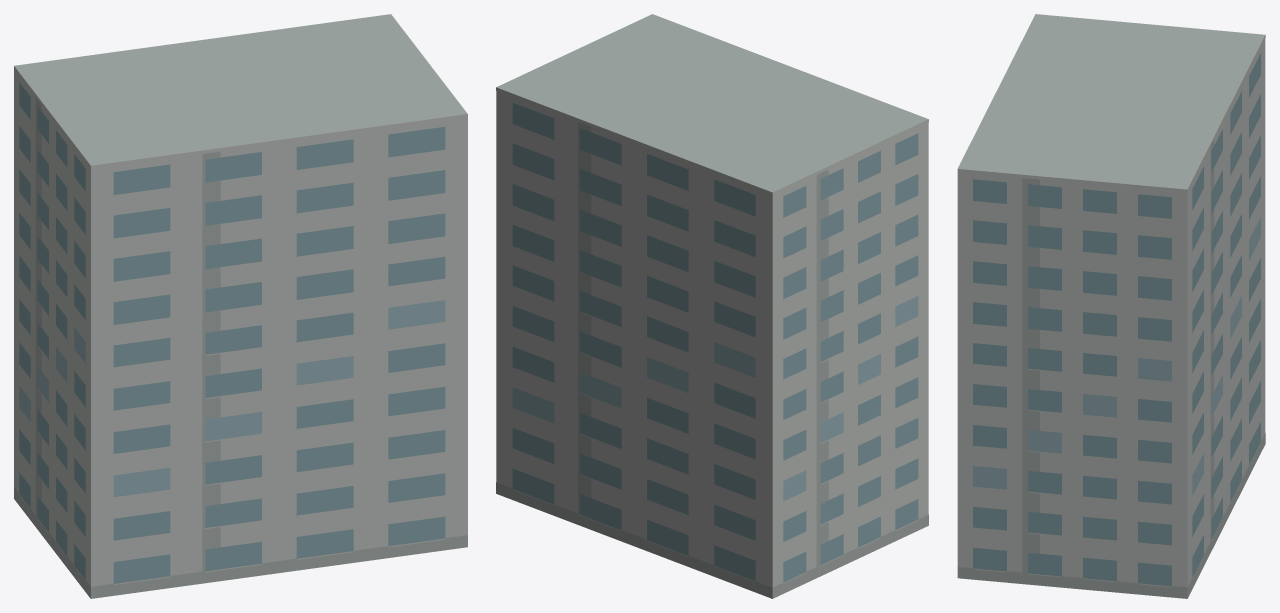
File: residential-0c042b13-881c-4822-92b7-1a0121827431.glb
The picture shows the model from 3 angles, left to right: view 1: azimuth 30°, elevation 25°; view 2: azimuth 150°, elevation 25°; view 3: azimuth 270°, elevation 25°; orthographic projection. The views are drawn at different scales.
Visible parts, largest first — view 1: residential-0c042b13-881c-4822-92b7-1a0121827431.tmp; view 2: residential-0c042b13-881c-4822-92b7-1a0121827431.tmp; view 3: residential-0c042b13-881c-4822-92b7-1a0121827431.tmp.
Boxes of the visible parts, <box> form: residential-0c042b13-881c-4822-92b7-1a0121827431.tmp: <box>14,14,467,598</box>; residential-0c042b13-881c-4822-92b7-1a0121827431.tmp: <box>496,14,928,598</box>; residential-0c042b13-881c-4822-92b7-1a0121827431.tmp: <box>957,14,1265,598</box>.
Size of the model in its own units: 27.6 by 30 by 20.46.
